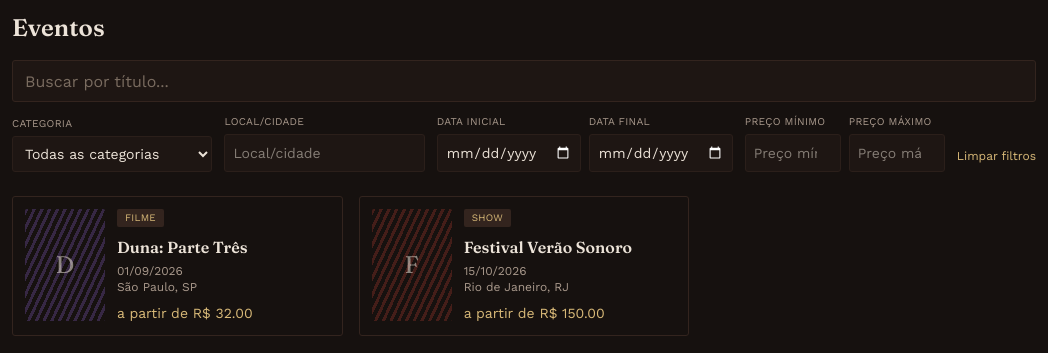
Test: HomePage › filters events by search text
The width and height of the screenshot is (1048, 353).
Expected: the heading "Duna: Parte Três" is shown, [117,238,248,258]
Type "Duna" into the field with placeholder "Buscar por título..." at (524, 81), box [12,60,1036,102]
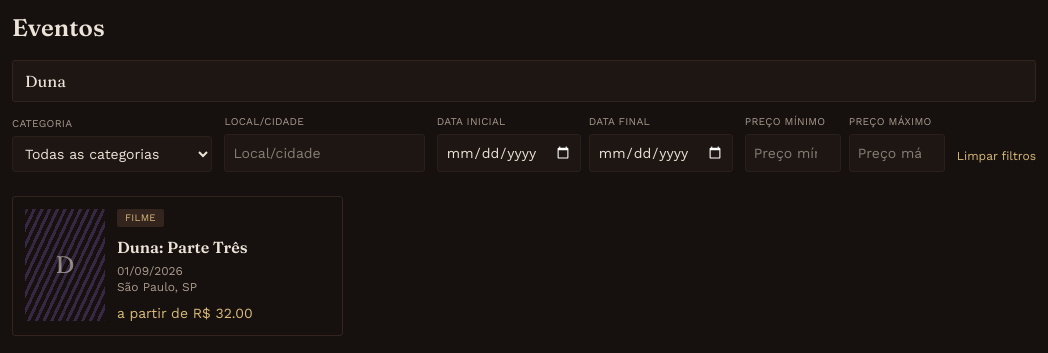
Expected: the heading "Duna: Parte Três" is shown, [117,238,248,258]
Expected: the link "Festival Verão Sonoro" is gone
